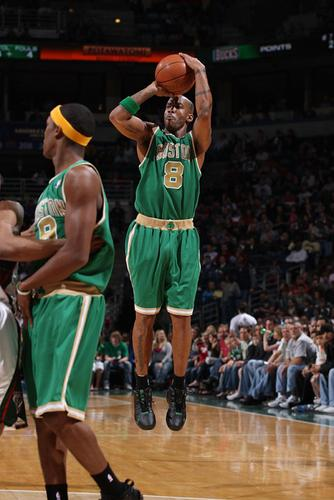ball: (155, 54, 196, 96)
